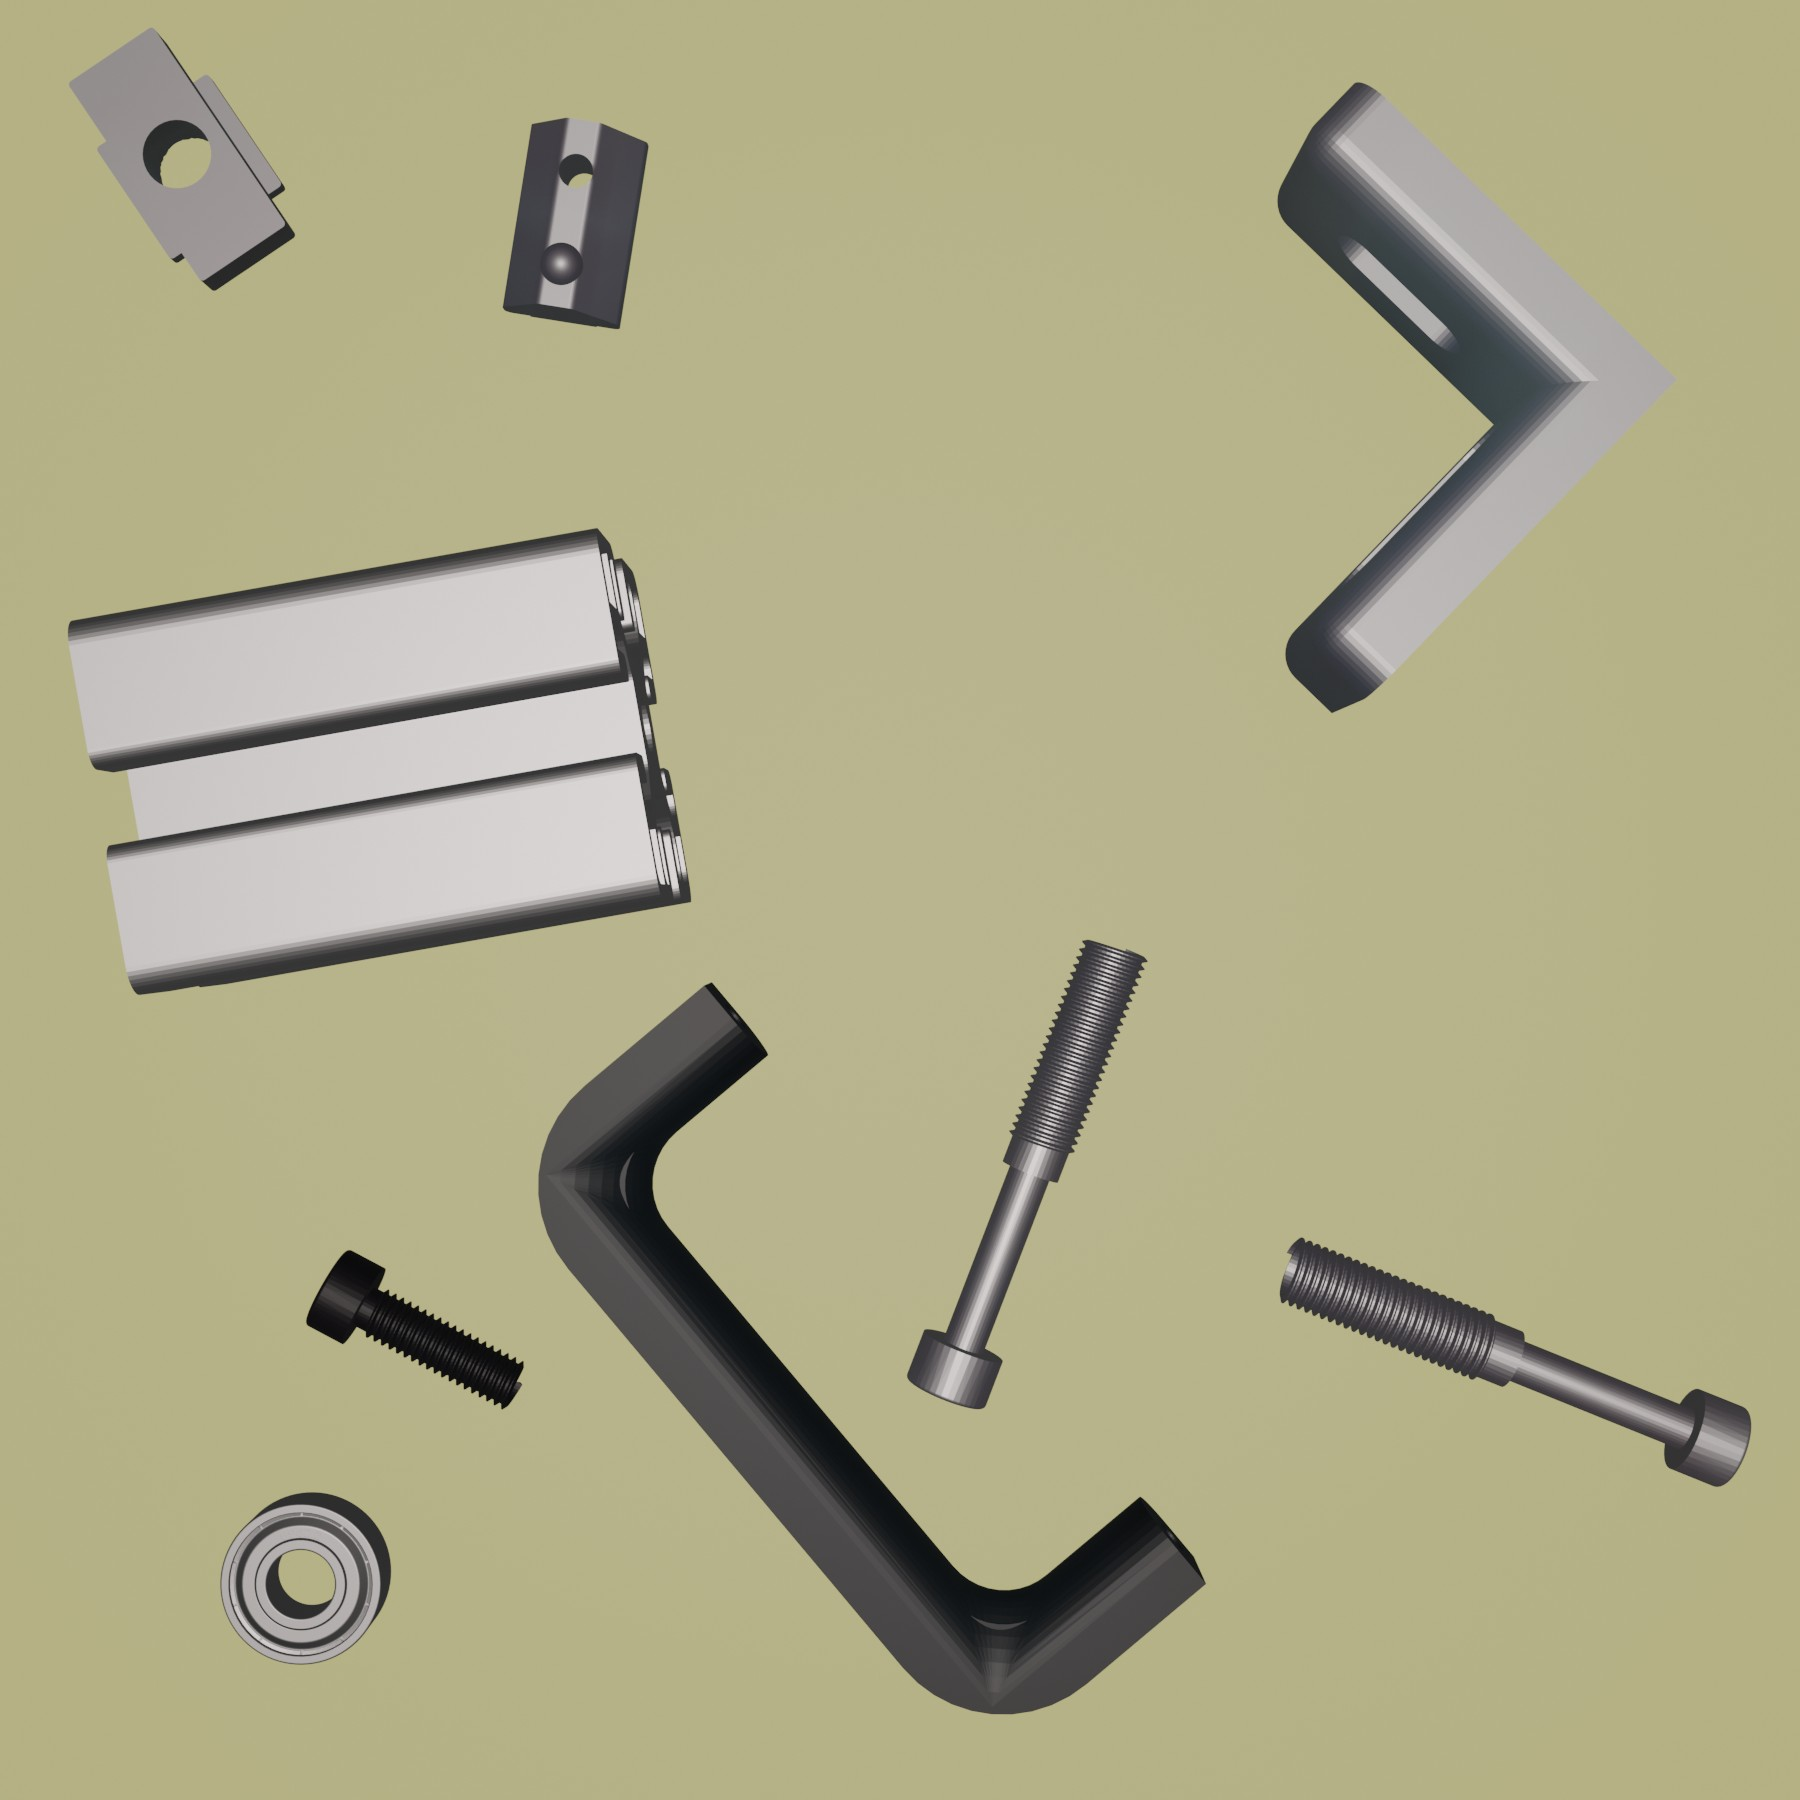Aluminium Extension: (66, 524, 692, 1001)
Ball Bearing: (219, 1488, 392, 1668)
Multiwinkel: (1277, 77, 1675, 715)
Pull Handle: (536, 981, 1208, 1714)
Shoulder Socket Head Cap Screw: (1273, 1236, 1752, 1488), (905, 936, 1147, 1411)
Socket Head Cap Screw: (308, 1246, 527, 1409)
T Nut Square: (66, 21, 298, 293)
T Spring Nut: (499, 119, 649, 331)
